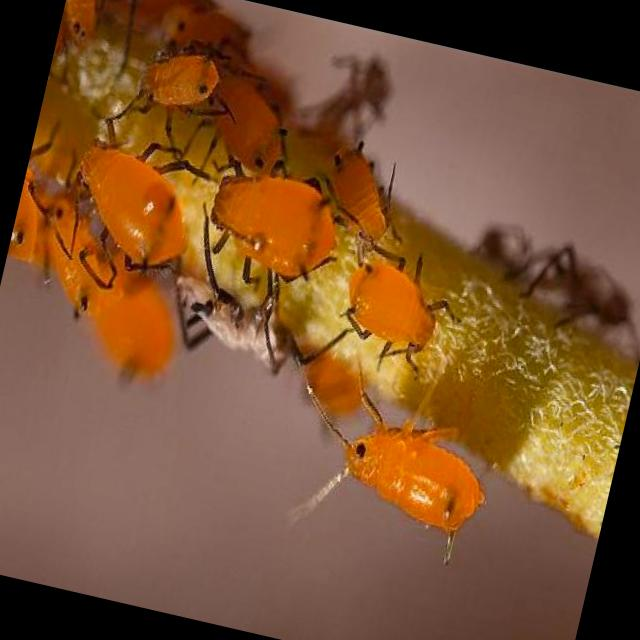aphid: (265, 346, 520, 582), (188, 110, 390, 318), (29, 112, 218, 296), (309, 218, 492, 395)
